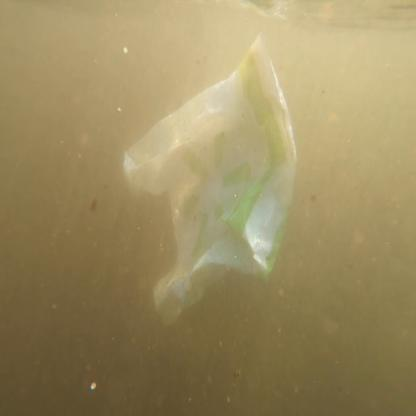Rác: (127, 37, 297, 290)
